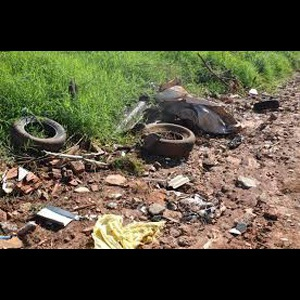tire: (12, 114, 66, 154), (141, 120, 195, 158)
